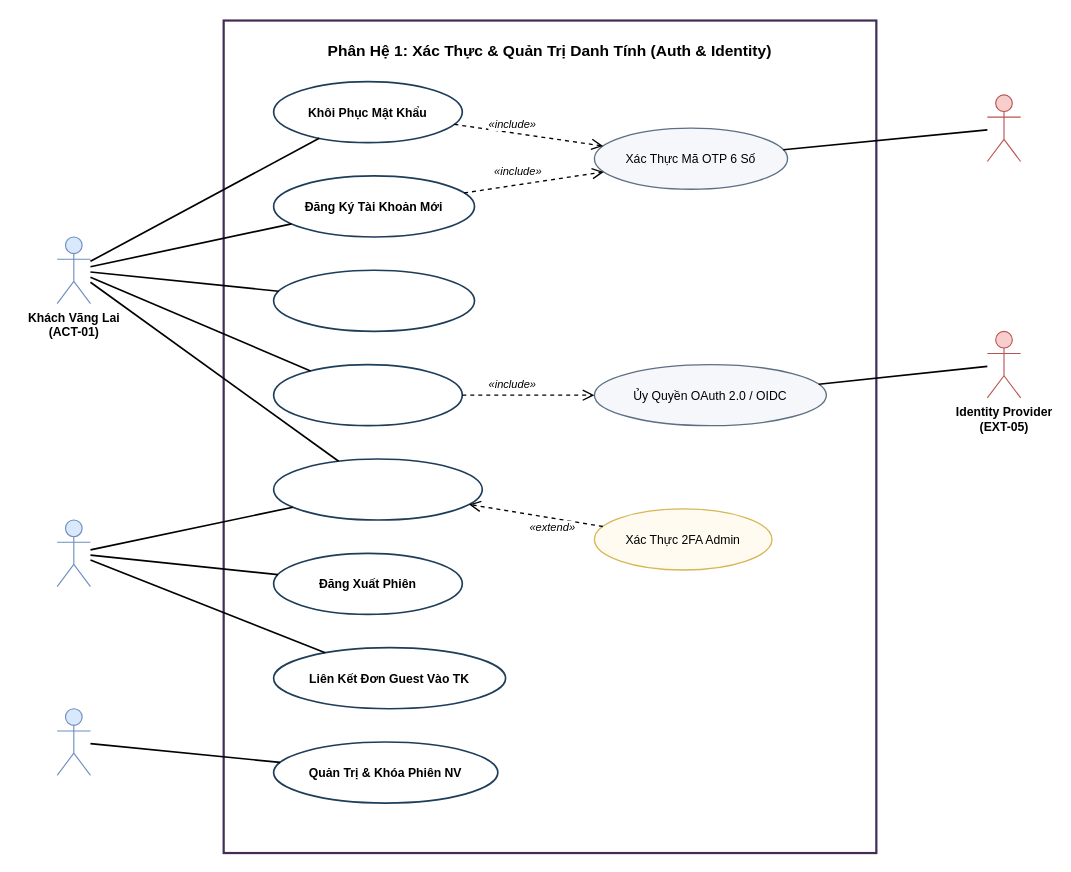
This 1071x872 diagram has some shape labels left out. Each missing label, with the box of its shape:
Cổng Email OTP (EXT-06): (986, 94, 1021, 162)
Khách Hàng (ACT-02): (56, 519, 90, 587)
Mua Hàng Không Cần TK (Guest Checkout): (272, 269, 475, 332)
Quản Trị Hệ Thống (ACT-17): (56, 708, 90, 775)
Đăng Nhập Mật Khẩu/OTP: (272, 458, 483, 520)
Đăng Nhập Nhanh MXH (Social Login): (272, 363, 463, 426)
